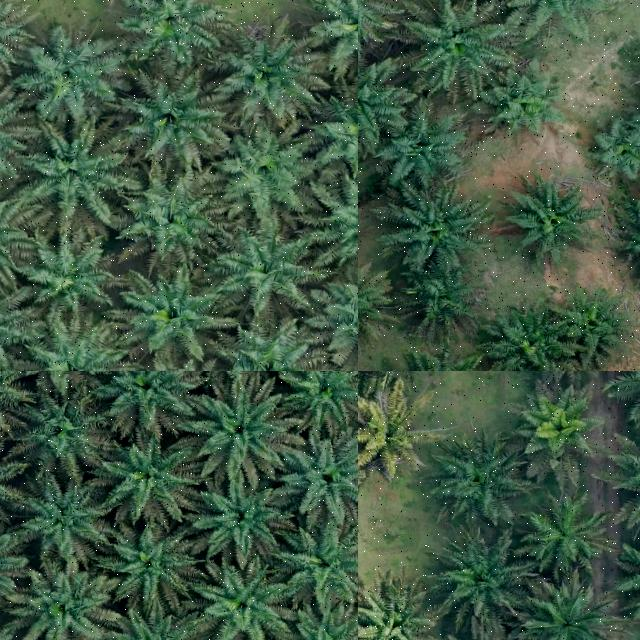Ganoderma: (524, 400, 586, 452)
